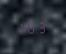one: (18, 20, 26, 34)
six: (28, 20, 36, 33)
three: (37, 19, 45, 33)
